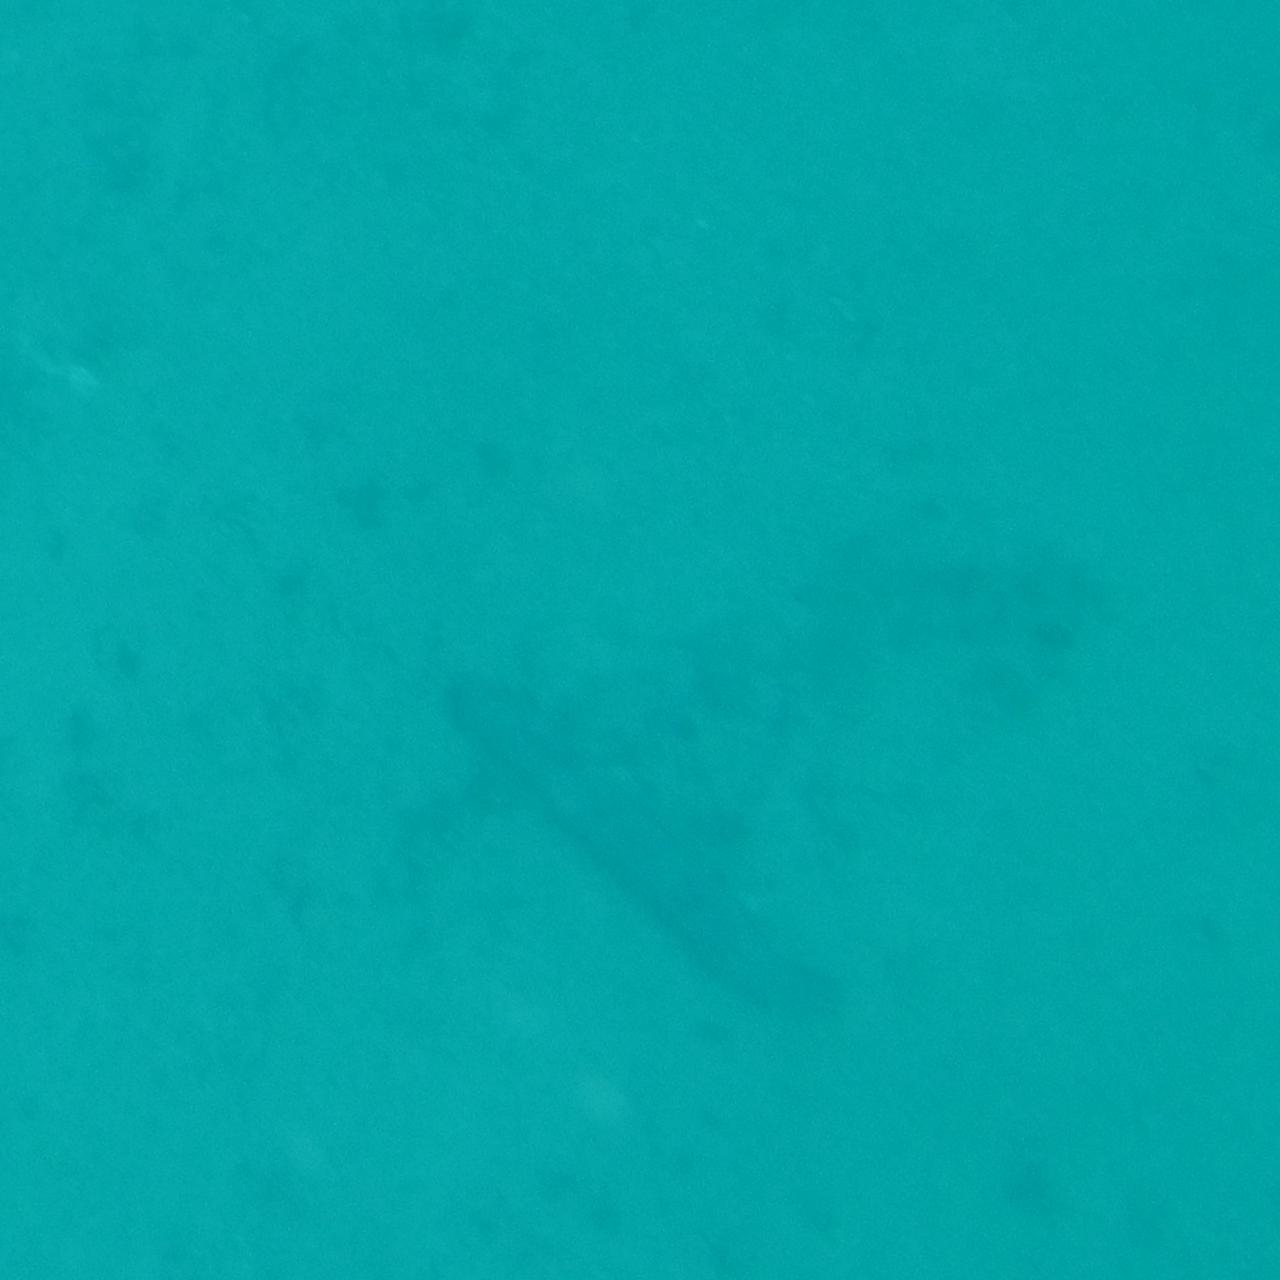Holothuria tubulosa: (442, 671, 838, 1016)
